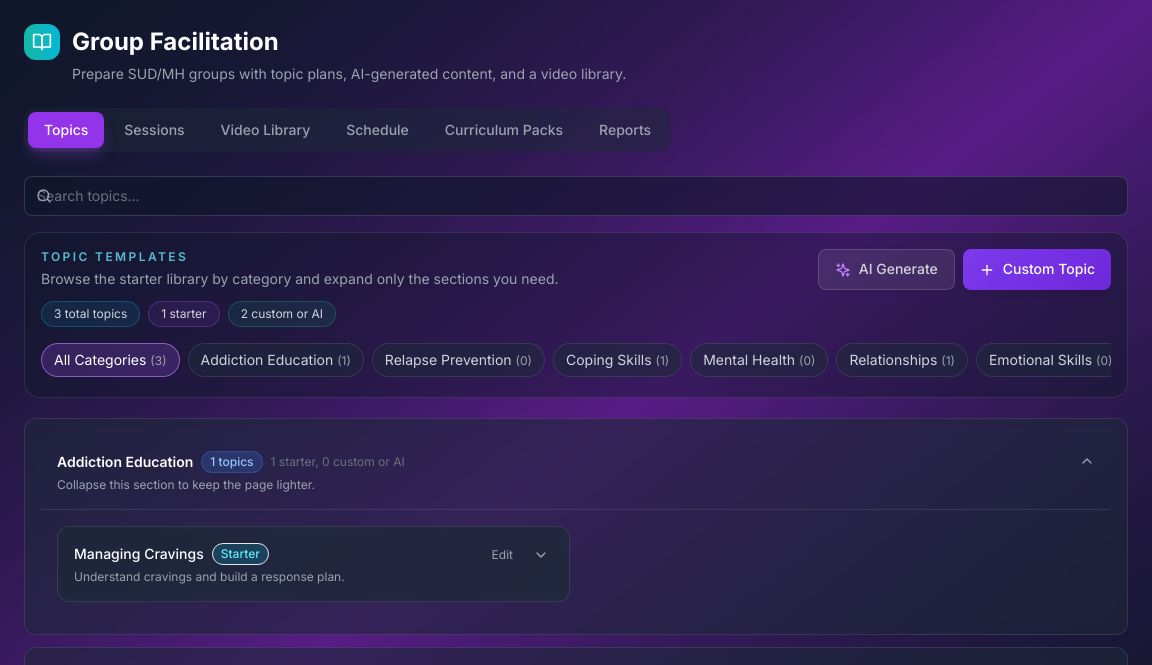
Scenario: Groups topics template layout › keeps the existing sessions workflow available with the same topic library
This screenshot has width=1152, height=665.
Expected: the text "Managing Cravings" is shown, [74, 544, 204, 564]
Click the button "Sessions": point(154, 130) [108, 112, 201, 148]
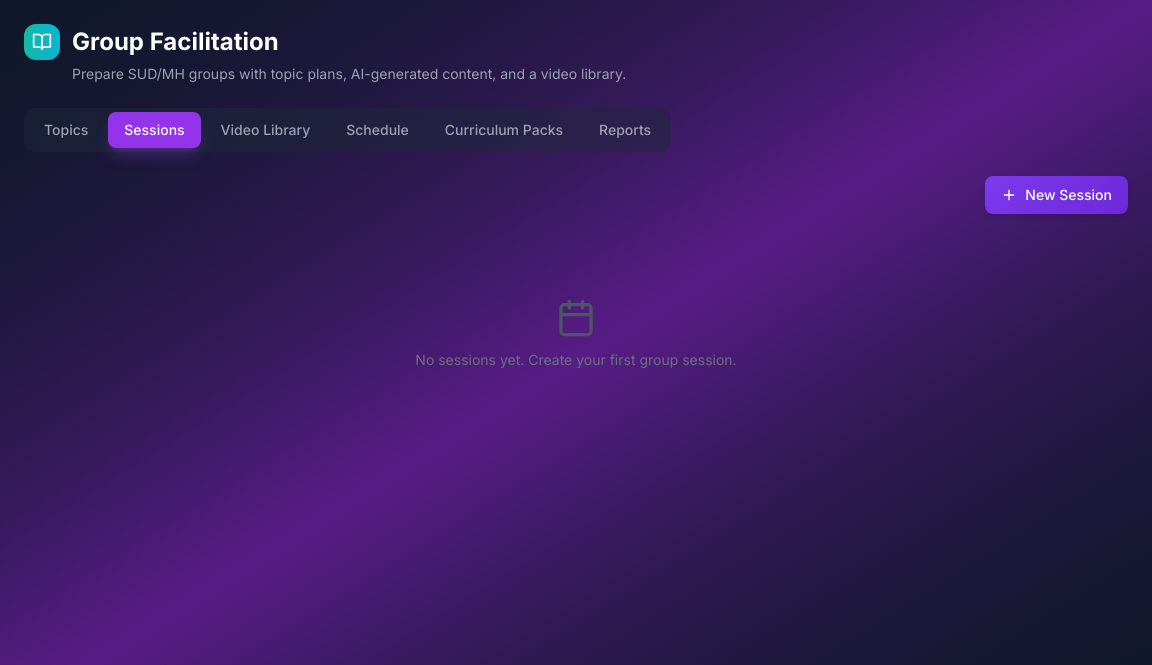
Expected: the button "New Session" is shown
Click the button "New Session": point(1057, 195) [985, 176, 1128, 214]
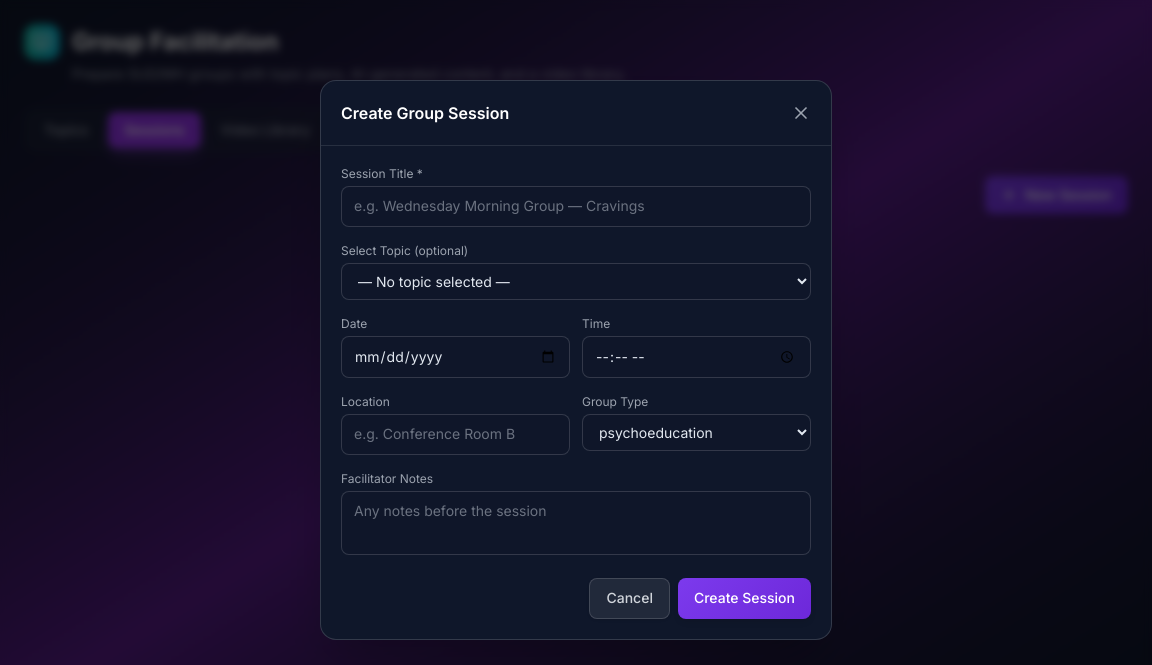
Expected: the heading "Create Group Session" is shown, [341, 101, 509, 125]
